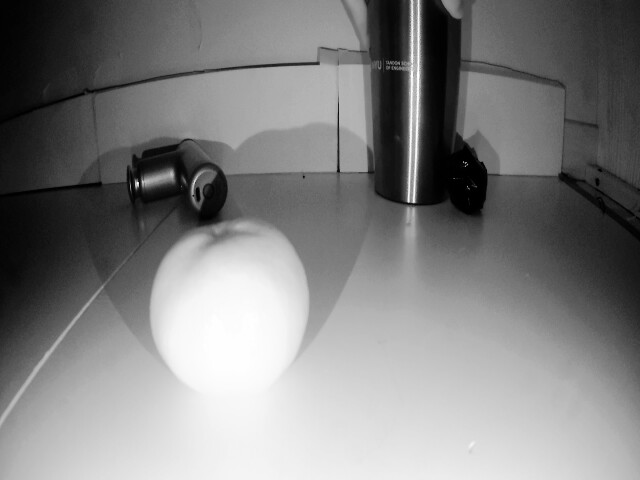silver: (460, 148, 507, 210)
